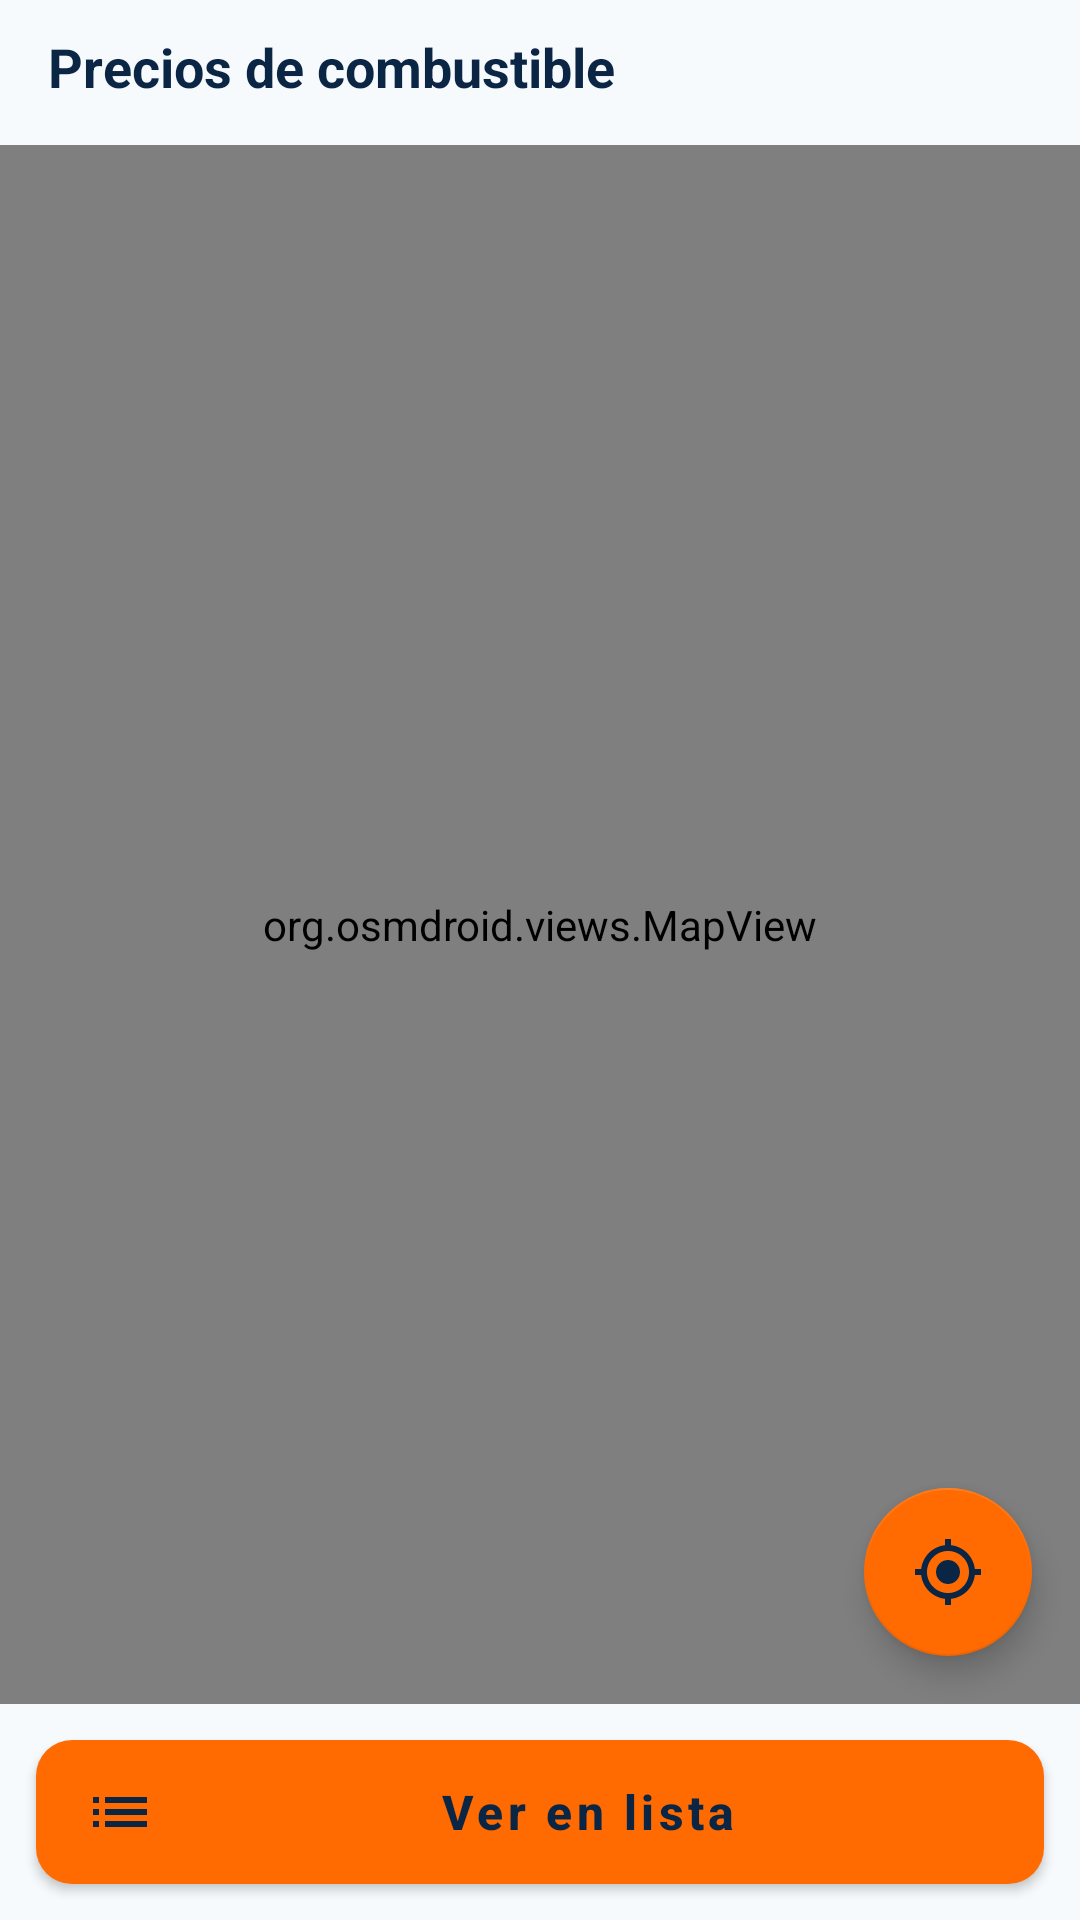

Named icons in this screenshot (1080 x 1920) and their centers, point (x, y):
Mi ubicación: point (948, 1572)
